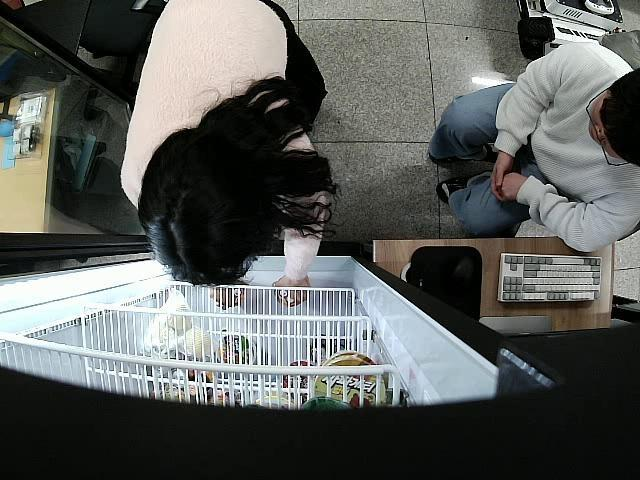06_nuguri_S: (272, 282, 298, 306)
